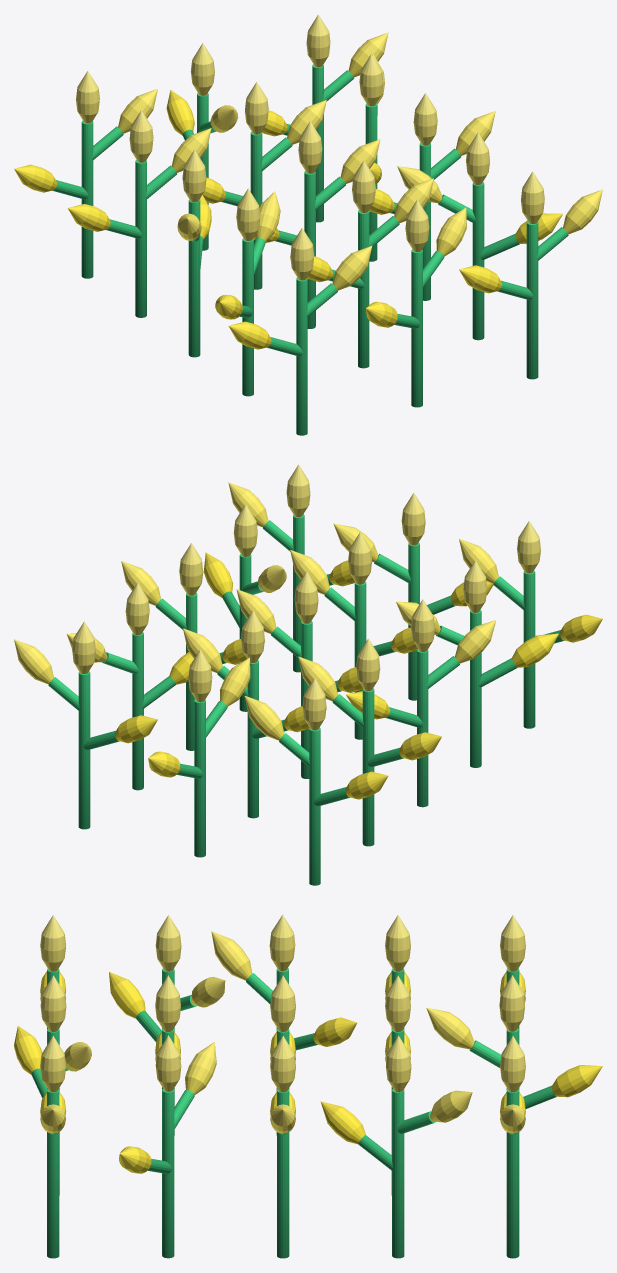
File: corns_sm.obj
3 renders of one model, top to bottom at view 1: azimuth 30°, elevation 25°; view 2: azimuth 150°, elevation 25°; view 3: azimuth 270°, elevation 25°, orthographic. The views are drawn at different scales.
Visible parts, largest first — view 1: corn_sm; view 2: corn_sm; view 3: corn_sm.
Boxes of the visible parts, box(x1,y1,x2,y2) form: corn_sm: box(14, 14, 602, 435); corn_sm: box(14, 464, 602, 885); corn_sm: box(14, 914, 602, 1258).
Bounding box in the file's own units: 2.69 × 1.41 × 3.41.
